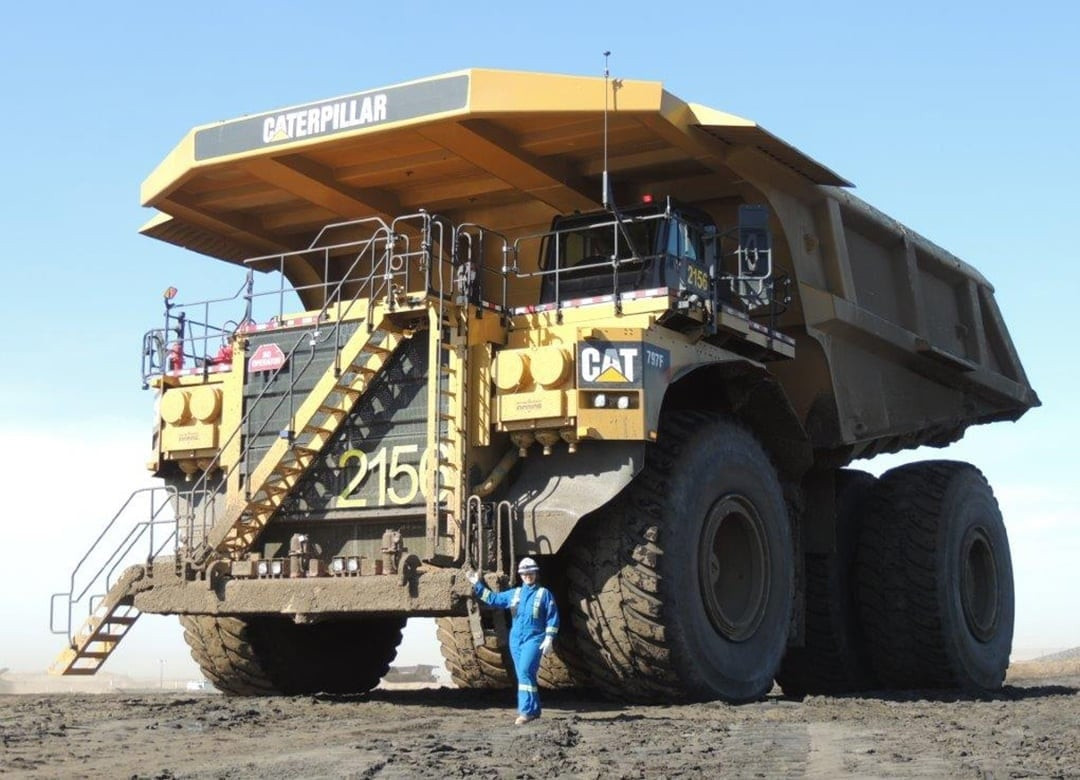truck: (52, 66, 1044, 710)
